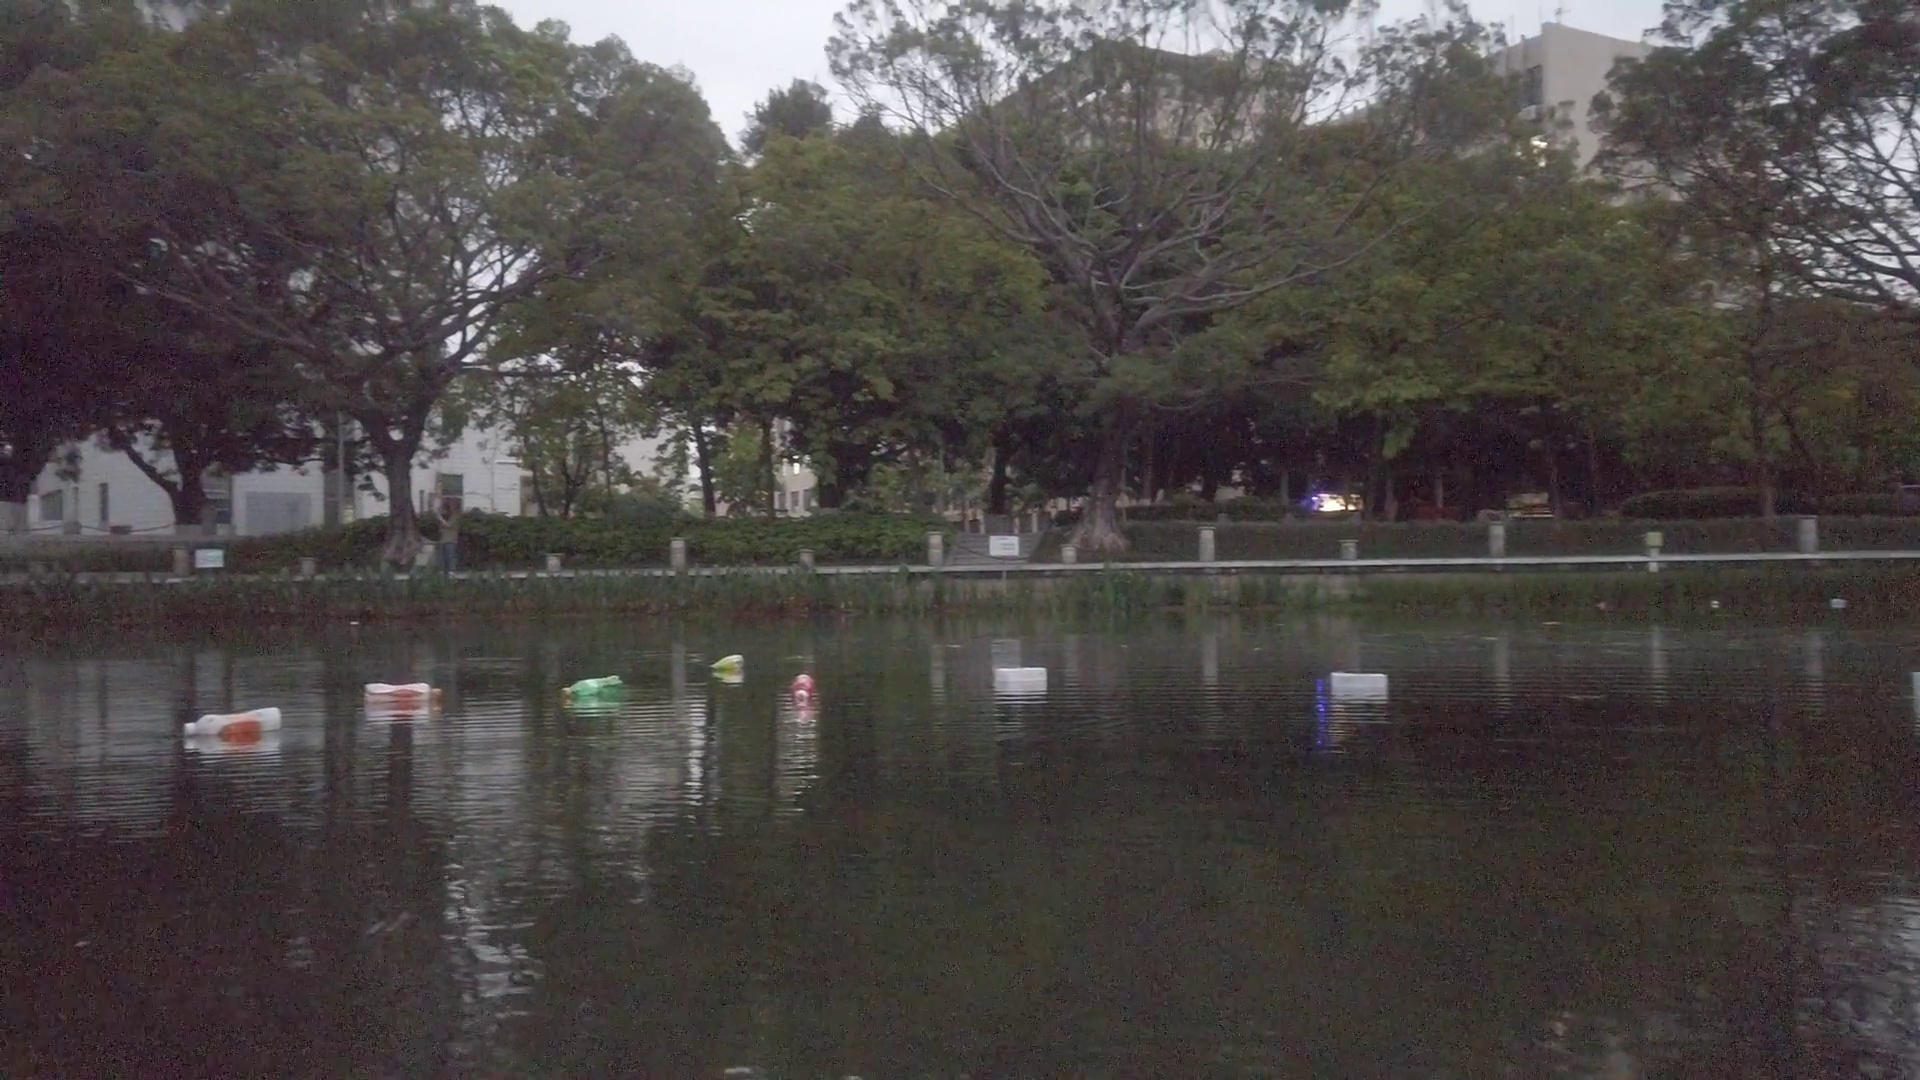bottle: (183, 705, 281, 735), (361, 680, 446, 705), (560, 675, 622, 703), (790, 673, 820, 705), (708, 651, 746, 671)
carton: (1331, 671, 1386, 696), (996, 669, 1051, 690), (1832, 597, 1846, 608)
